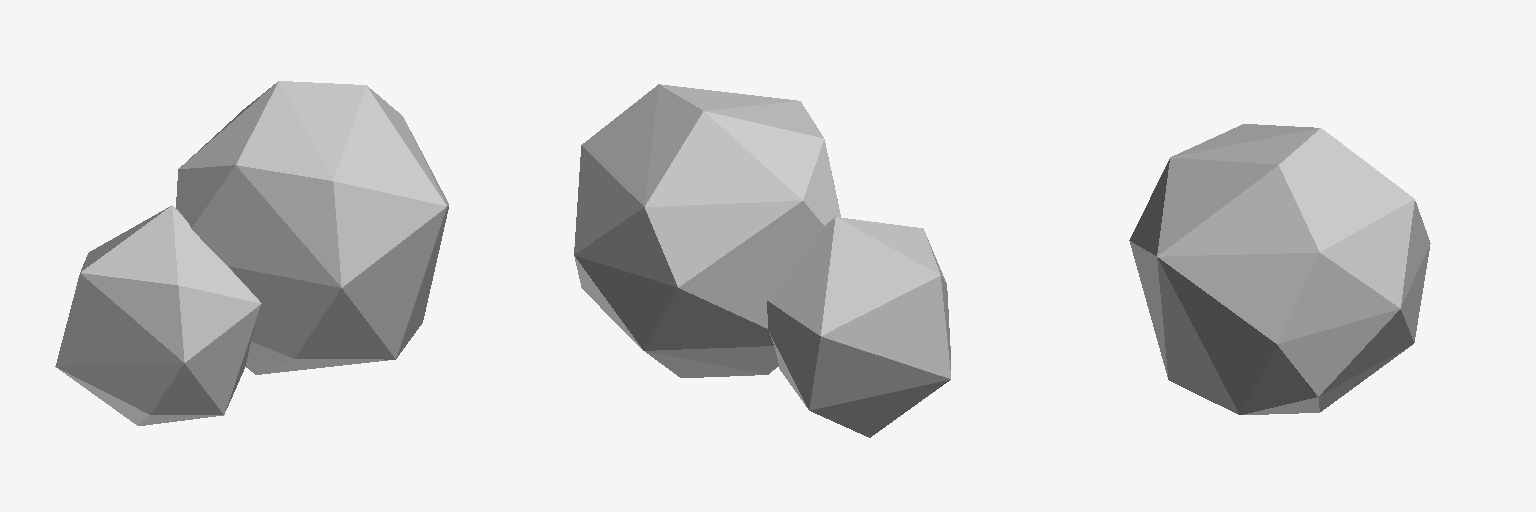
Rendered from Cloud10.obj.
3 views of the same model, side by side, from view 1: azimuth 30°, elevation 25°; view 2: azimuth 150°, elevation 25°; view 3: azimuth 270°, elevation 25° (orthographic).
Parts seen in each view (by area): view 1: Cloud10_Object_70_Object_33.001; view 2: Cloud10_Object_70_Object_33.001; view 3: Cloud10_Object_70_Object_33.001.
Part boxes in pixels (bbox=[...]): Cloud10_Object_70_Object_33.001: bbox=[55, 81, 448, 425]; Cloud10_Object_70_Object_33.001: bbox=[574, 84, 950, 437]; Cloud10_Object_70_Object_33.001: bbox=[1129, 124, 1430, 414].
Size of the model in its own units: 1.05 by 0.7799 by 0.7127.